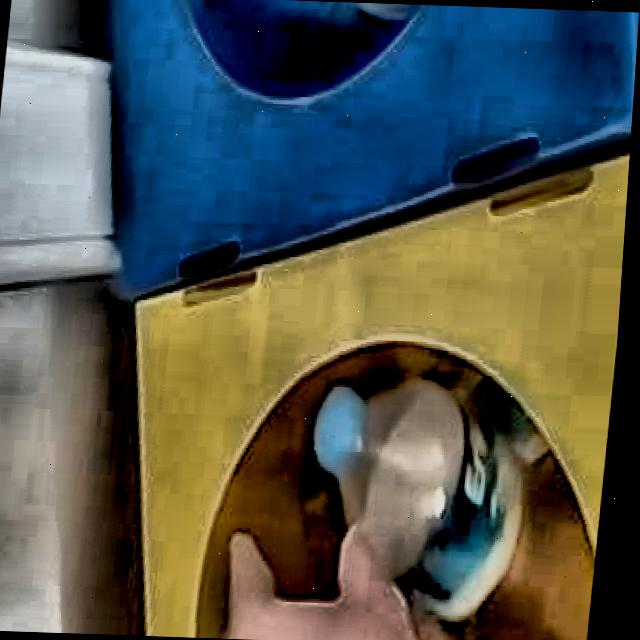plastic: (319, 378, 602, 640)
